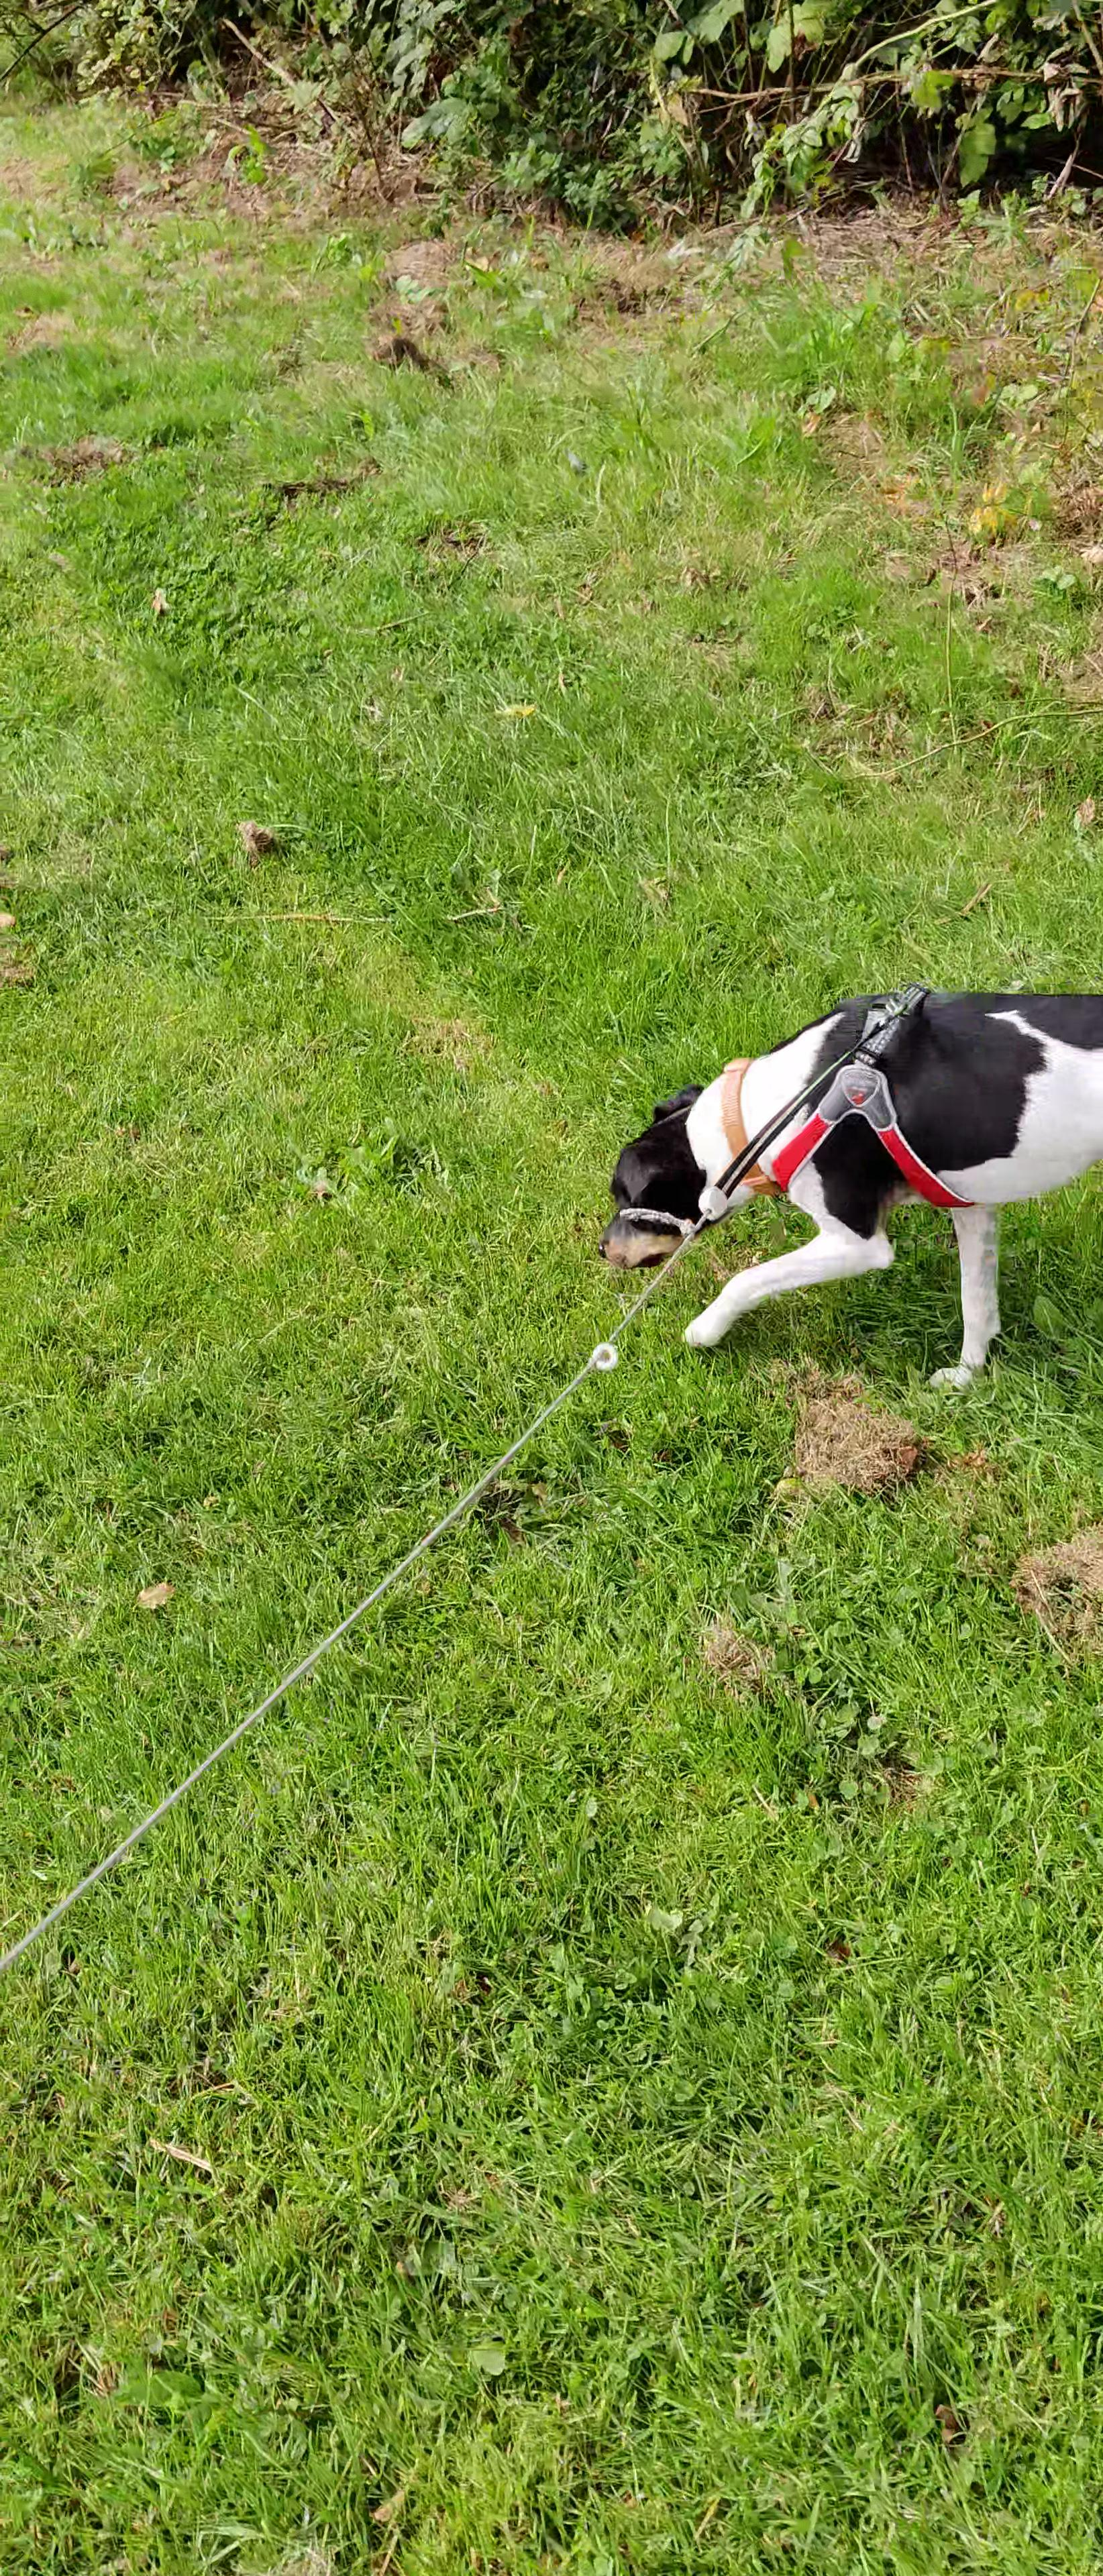Dog: (547, 945, 1103, 1419)
